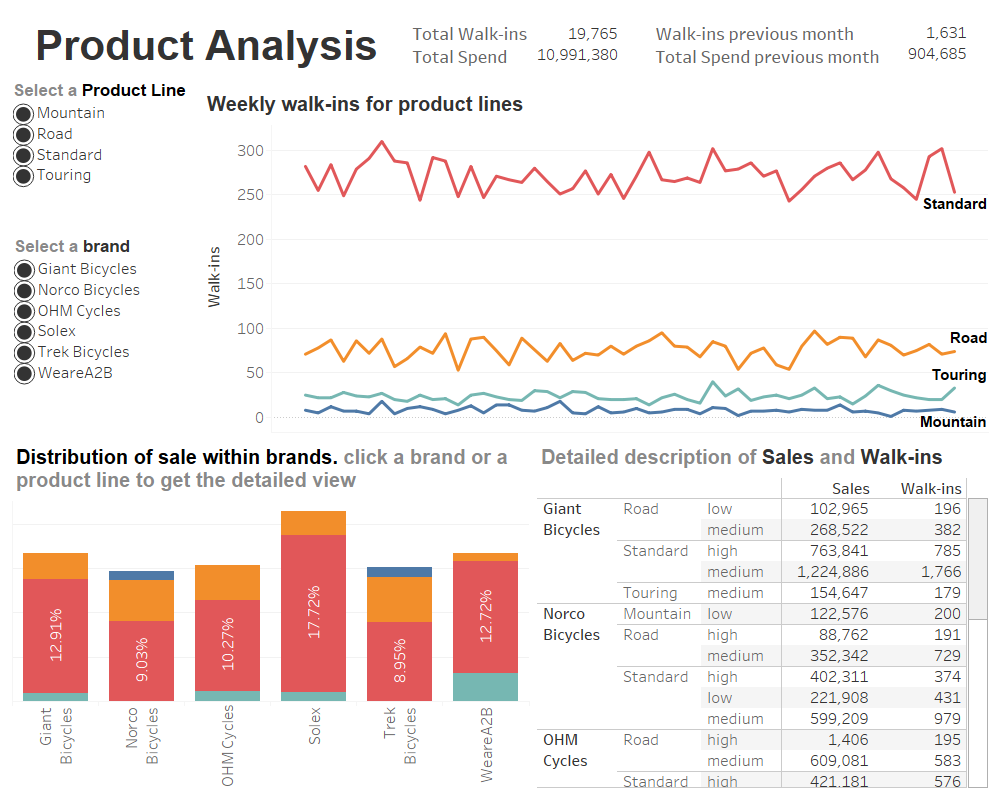

The dashboard page shown, as its layout file describes it:
{"tool":"tableau","page":{"name":"Product Analysis","canvas":[1000,800],"ordinal":1},"visuals":[{"type":"worksheet","box":[0,0,1000,800]},{"type":"worksheet","title":"Totals","mark":"Automatic","box":[529,7,103,76]},{"type":"worksheet","param":"horz","box":[8,8,984,784]},{"type":"worksheet","param":"horz","box":[8,8,984,784]},{"type":"worksheet","param":"horz","box":[8,8,984,784]},{"type":"worksheet","param":"horz","box":[8,8,984,784]},{"type":"worksheet","param":"horz","box":[8,8,984,784]},{"type":"worksheet","param":"horz","box":[8,8,984,784]},{"type":"worksheet","param":"horz","box":[8,8,984,784]},{"type":"worksheet","param":"horz","box":[8,8,984,784]},{"type":"worksheet","param":"horz","box":[8,8,984,784]},{"type":"worksheet","box":[8,8,984,784]},{"type":"worksheet","box":[8,8,397,75]},{"type":"worksheet","box":[405,8,243,75]},{"type":"worksheet","box":[648,8,344,75]},{"type":"worksheet","title":"Prev month Total","mark":"Automatic","box":[887,11,109,70]},{"type":"worksheet","title":"Discount weekly","mark":"Automatic","rows":["transaction_id"],"cols":["transaction_date"],"param":"[federated.1qpczez0l6baiq1apgai91wxeh79].[none:product_line:nk]","box":[13,80,189,151]},{"type":"worksheet","box":[8,83,191,353]},{"type":"worksheet","title":"Discount weekly","mark":"Automatic","rows":["transaction_id"],"cols":["transaction_date"],"box":[199,83,793,353]},{"type":"worksheet","title":"Which brand is popular","mark":"Automatic","rows":["transaction_id"],"cols":["brand"],"param":"[federated.1qpczez0l6baiq1apgai91wxeh79].[none:brand:nk]","box":[14,236,168,197]},{"type":"worksheet","title":"Which brand is popular","mark":"Automatic","rows":["transaction_id"],"cols":["brand"],"box":[8,436,525,356]},{"type":"worksheet","title":"Brand discription","mark":"Automatic","rows":["brand","product_line","product_class"],"box":[533,436,459,356]}]}

Visuals, with their boxes in screenshot pixels (x1, y1, x2, y2), scaled from the page's 1000x800 canvas onto the 1000x800 screenshot:
worksheet: locate(0, 0, 999, 799)
"Totals" worksheet: locate(529, 7, 632, 83)
worksheet: locate(8, 8, 992, 792)
worksheet: locate(8, 8, 992, 792)
worksheet: locate(8, 8, 992, 792)
worksheet: locate(8, 8, 992, 792)
worksheet: locate(8, 8, 992, 792)
worksheet: locate(8, 8, 992, 792)
worksheet: locate(8, 8, 992, 792)
worksheet: locate(8, 8, 992, 792)
worksheet: locate(8, 8, 992, 792)
worksheet: locate(8, 8, 992, 792)
worksheet: locate(8, 8, 405, 83)
worksheet: locate(405, 8, 648, 83)
worksheet: locate(648, 8, 992, 83)
"Prev month Total" worksheet: locate(887, 11, 996, 81)
"Discount weekly" worksheet: locate(13, 80, 202, 231)
worksheet: locate(8, 83, 199, 436)
"Discount weekly" worksheet: locate(199, 83, 992, 436)
"Which brand is popular" worksheet: locate(14, 236, 182, 433)
"Which brand is popular" worksheet: locate(8, 436, 533, 792)
"Brand discription" worksheet: locate(533, 436, 992, 792)
